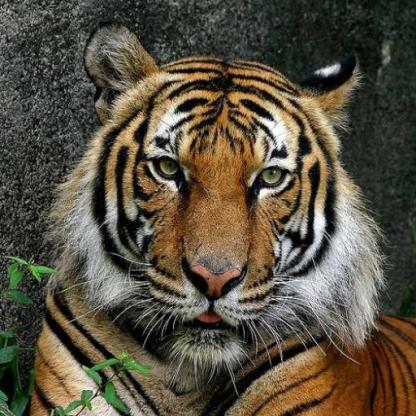Tiger: (17, 16, 415, 415)
